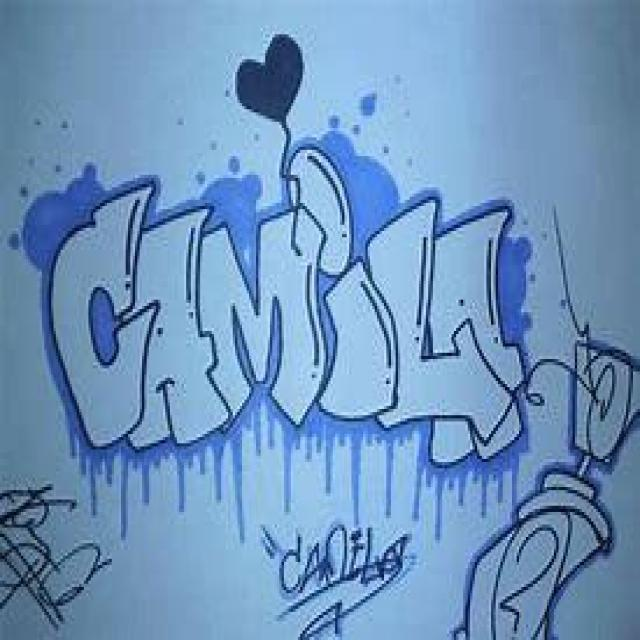nonspitting: (39, 153, 536, 469), (447, 328, 640, 640), (256, 515, 417, 640), (0, 478, 114, 637), (230, 37, 310, 157)
